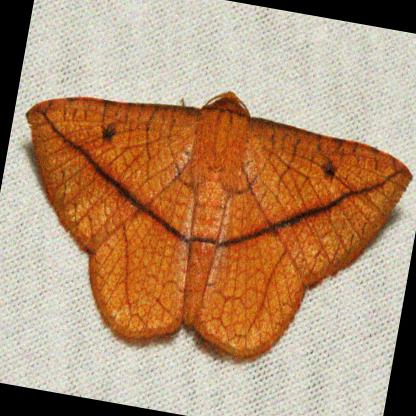Leaf Webber: (23, 81, 410, 367)
